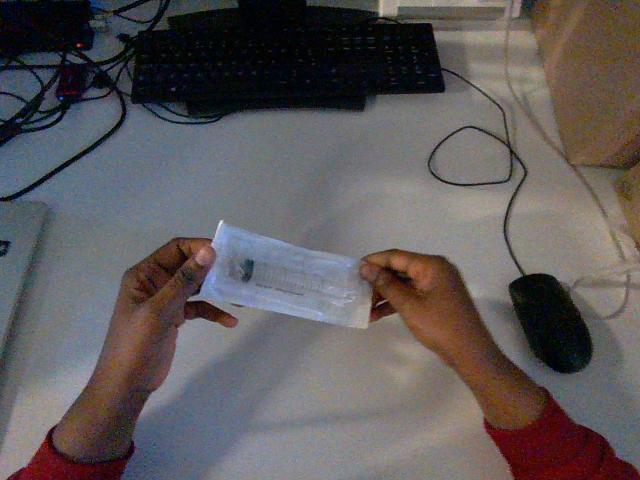syringe: (200, 221, 371, 327)
